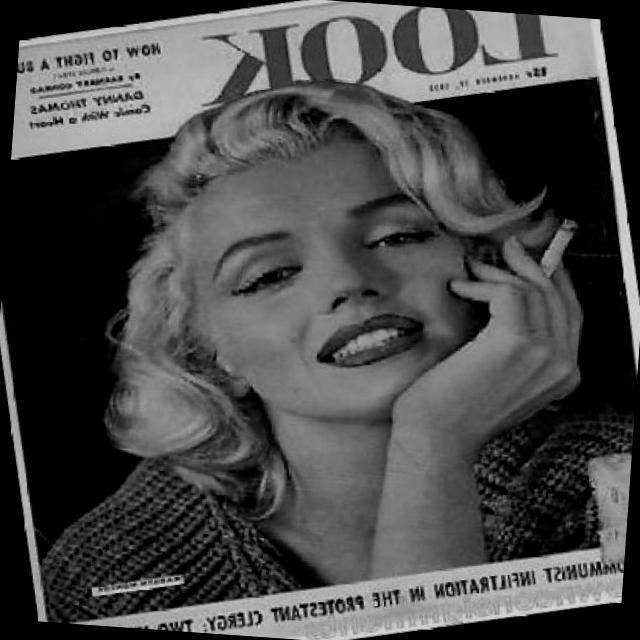cigarette: (526, 210, 590, 283)
